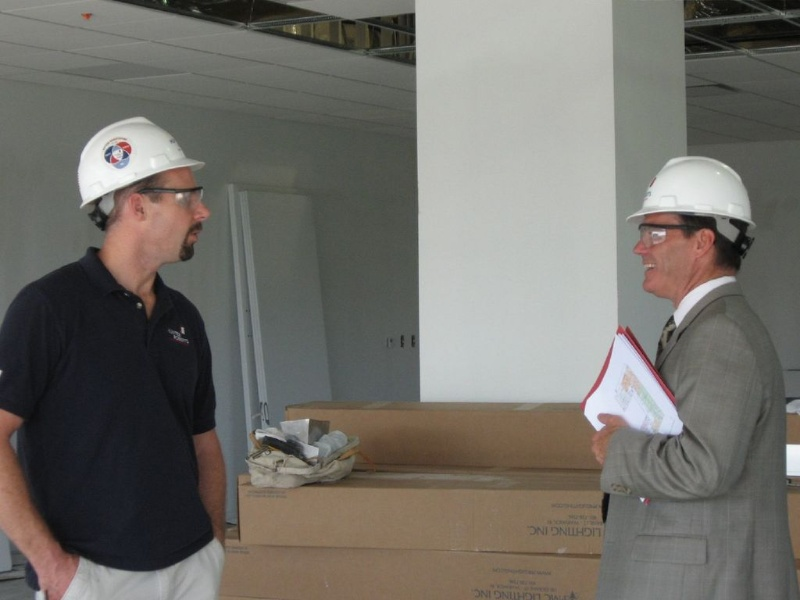Baret: (78, 115, 207, 186), (633, 155, 752, 224)
Gozluk: (128, 185, 208, 213), (632, 222, 721, 240)
